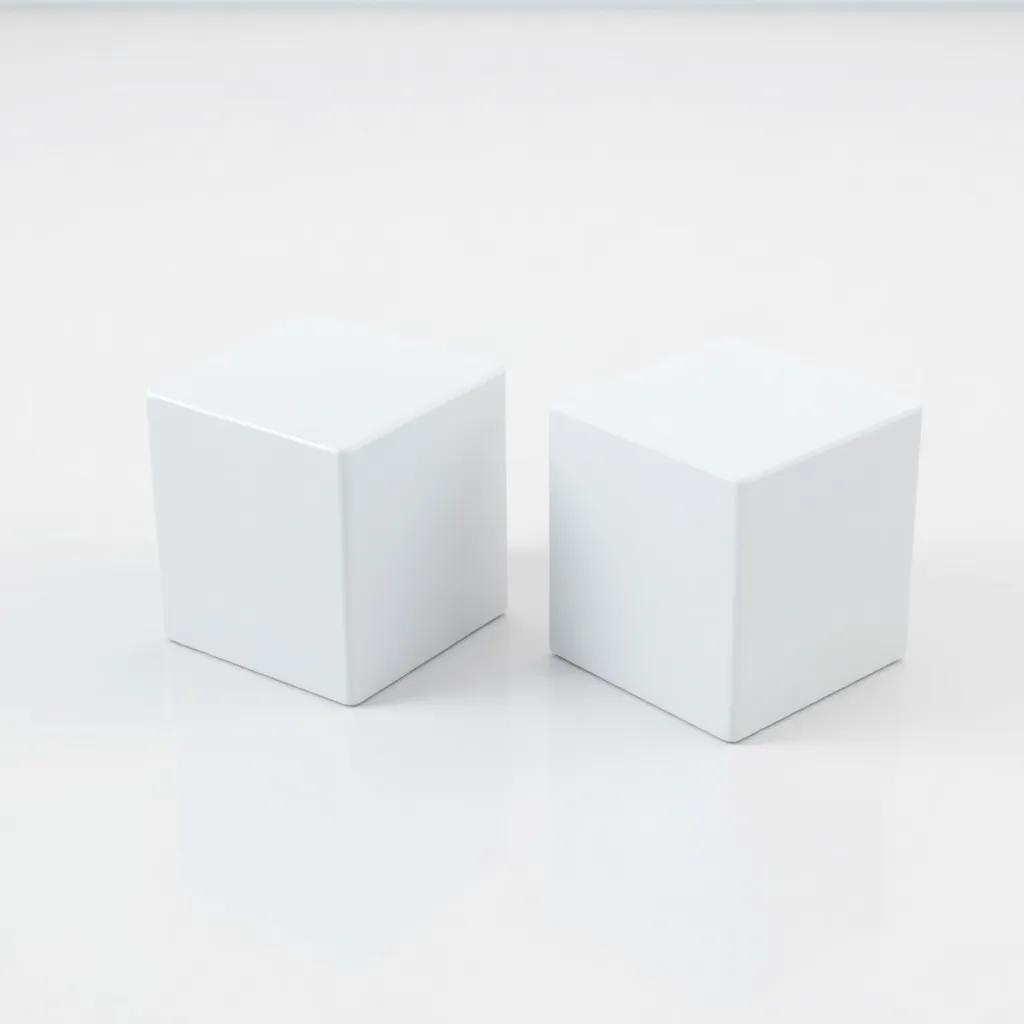cube: (546, 336, 923, 743), (144, 318, 508, 707)
